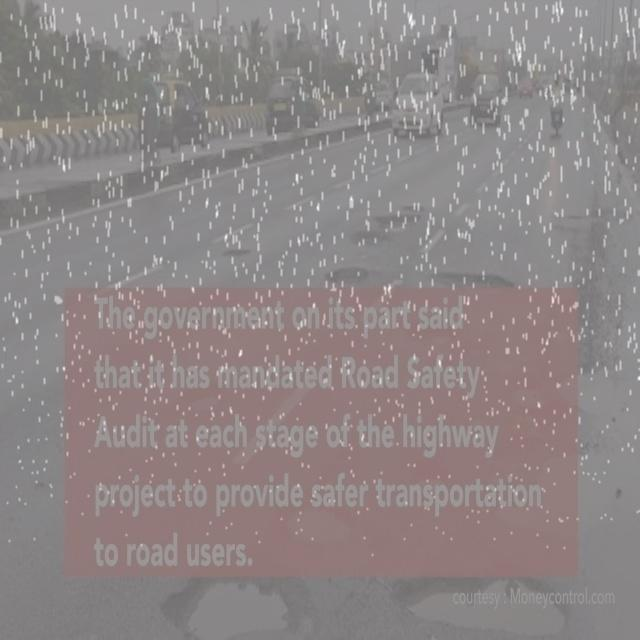Pothole: (390, 572, 594, 640), (161, 572, 322, 640), (432, 271, 518, 292), (541, 208, 614, 232), (322, 261, 382, 290), (371, 206, 431, 233), (349, 222, 392, 252), (221, 249, 253, 259)
